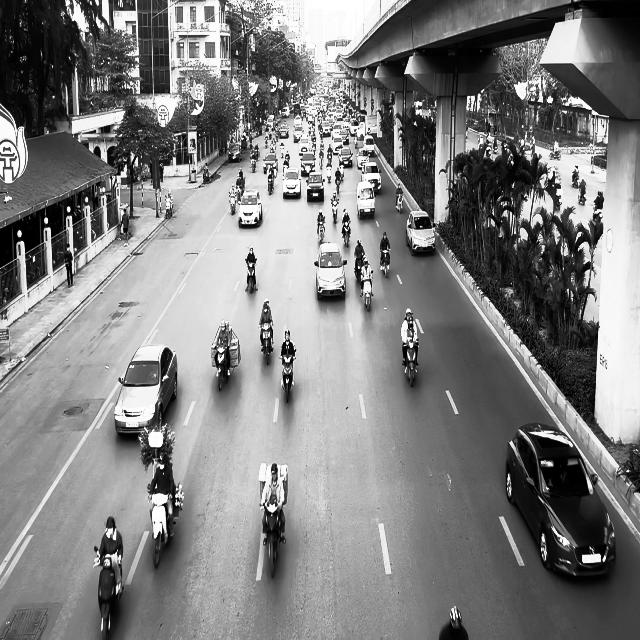car: (505, 422, 616, 579), (114, 344, 177, 438), (314, 242, 347, 299), (406, 210, 436, 256), (238, 189, 262, 227), (356, 182, 375, 220), (282, 166, 302, 198), (306, 172, 324, 201), (263, 153, 278, 174), (228, 143, 241, 162)
motorbike: (94, 545, 124, 639), (148, 488, 175, 568), (260, 498, 285, 578), (280, 349, 296, 403), (402, 339, 419, 387), (215, 344, 230, 391), (258, 322, 274, 364), (360, 272, 373, 311), (245, 259, 257, 293), (380, 246, 390, 278), (354, 255, 364, 281), (342, 221, 351, 247), (317, 217, 325, 245), (266, 168, 274, 195), (331, 197, 339, 223), (229, 190, 236, 215), (396, 192, 404, 213), (578, 184, 586, 204)
